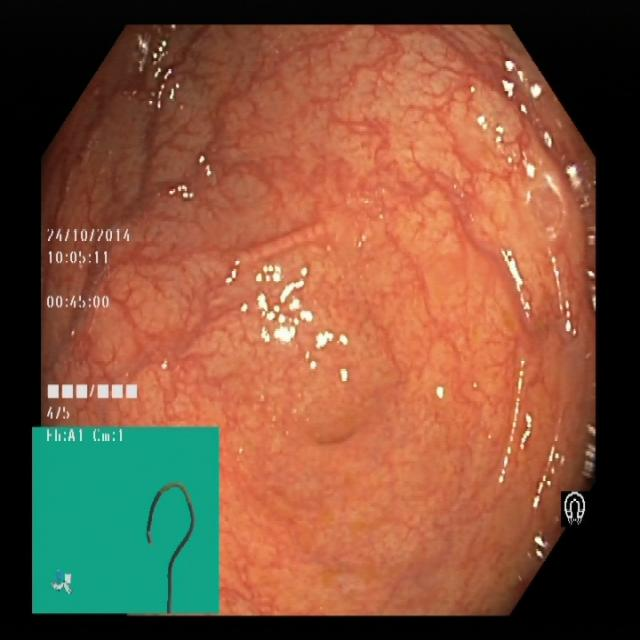normal-cecum: (500, 224, 597, 368), (87, 20, 218, 122)
